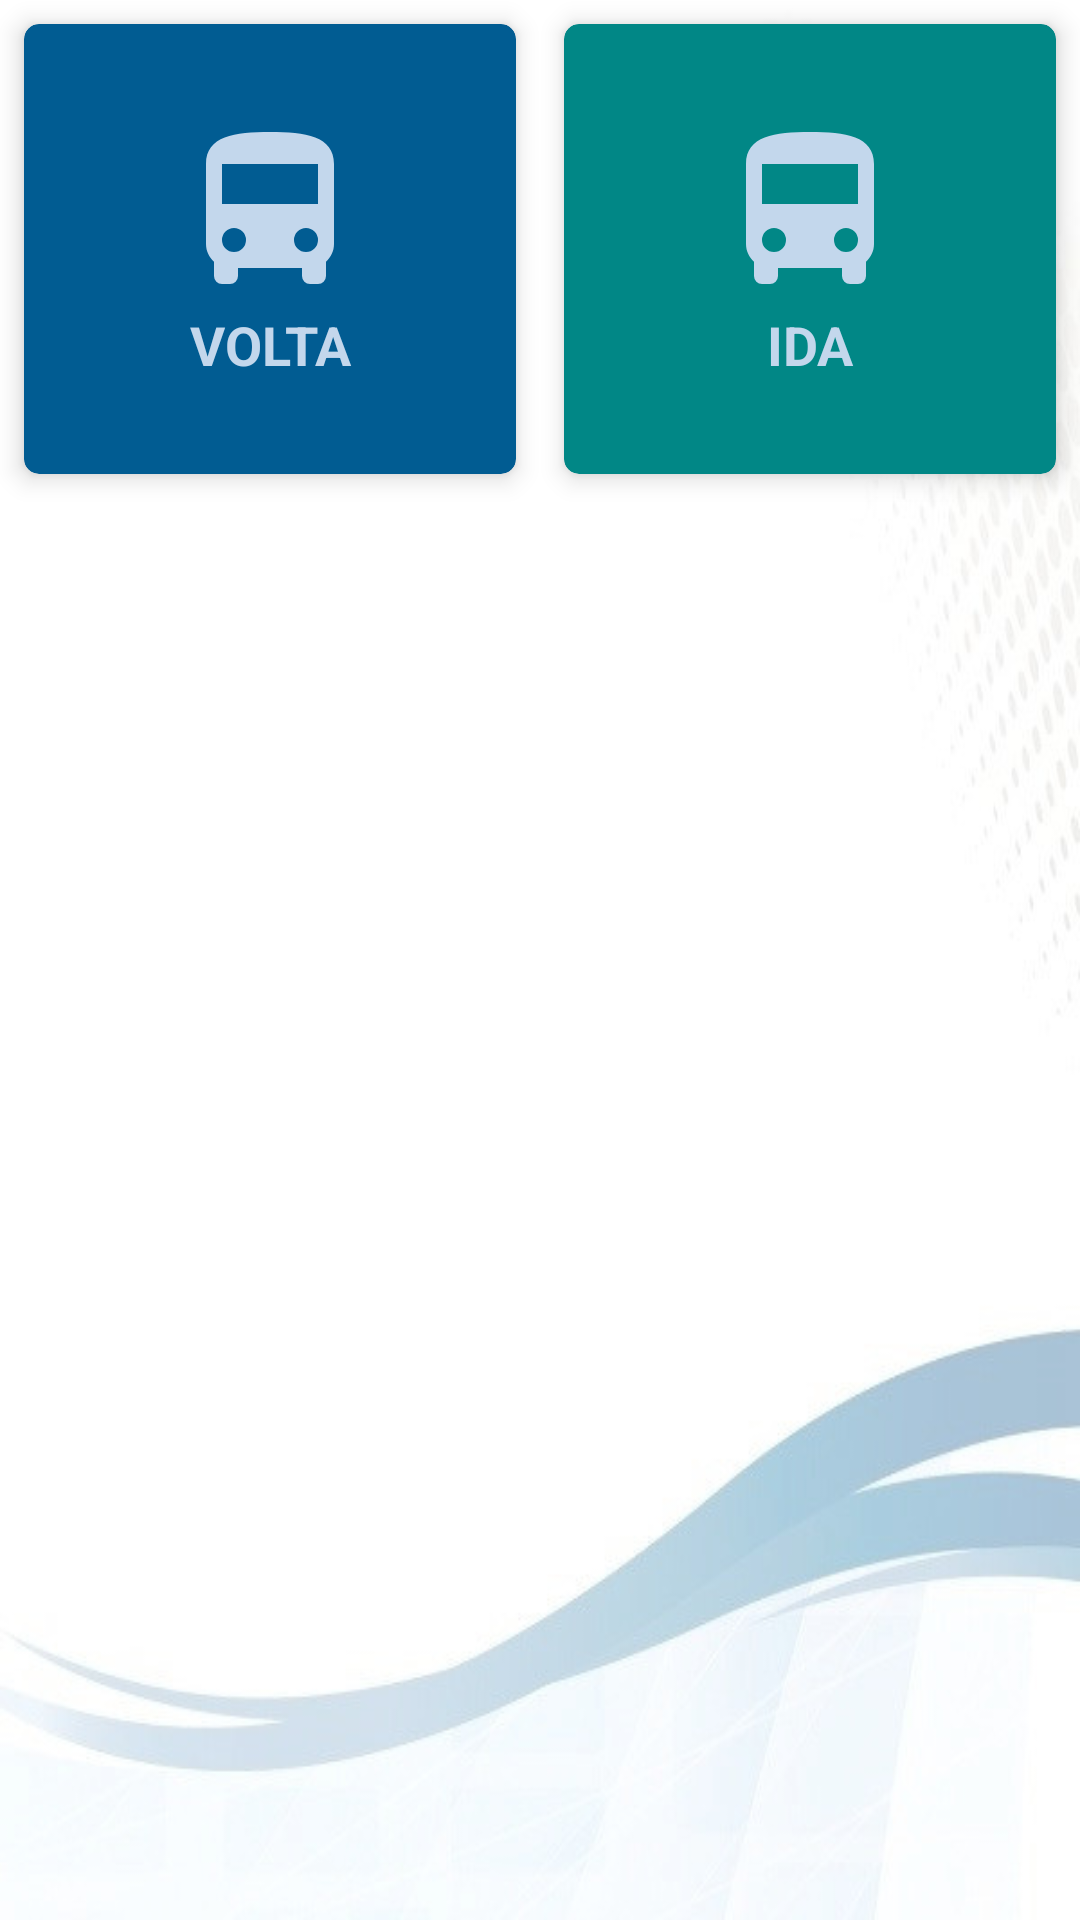

Screen size 1080*1920. Icon name, then its center in pixels as (x=x, y=y):
bus: (x=270, y=208), (x=810, y=208)
